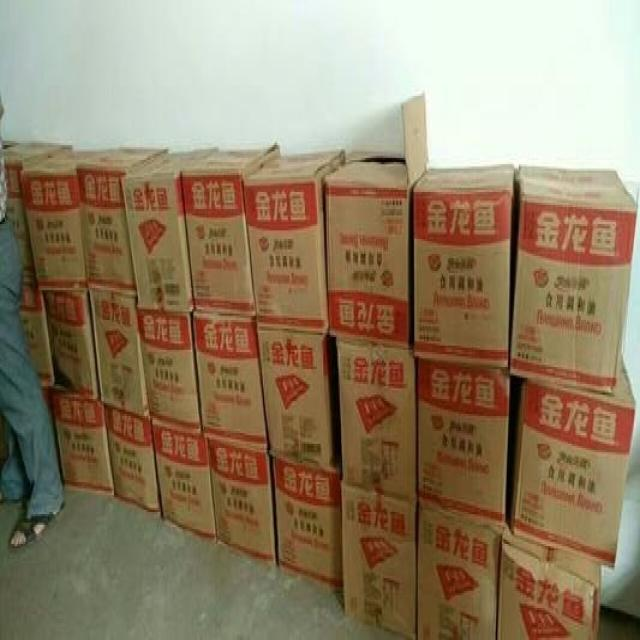box: (509, 164, 638, 395), (510, 350, 636, 572), (323, 94, 430, 348), (413, 166, 514, 367), (243, 149, 346, 335), (181, 147, 280, 318), (415, 358, 510, 529), (120, 147, 217, 311), (76, 147, 167, 297), (337, 339, 417, 503), (497, 523, 600, 640), (341, 484, 415, 640), (418, 508, 502, 640), (30, 149, 107, 290), (192, 316, 269, 452), (257, 329, 331, 465), (271, 457, 342, 595), (209, 439, 277, 570), (138, 311, 203, 435), (90, 290, 151, 418), (152, 422, 215, 542), (41, 290, 98, 399), (54, 395, 114, 497), (106, 407, 160, 514)
